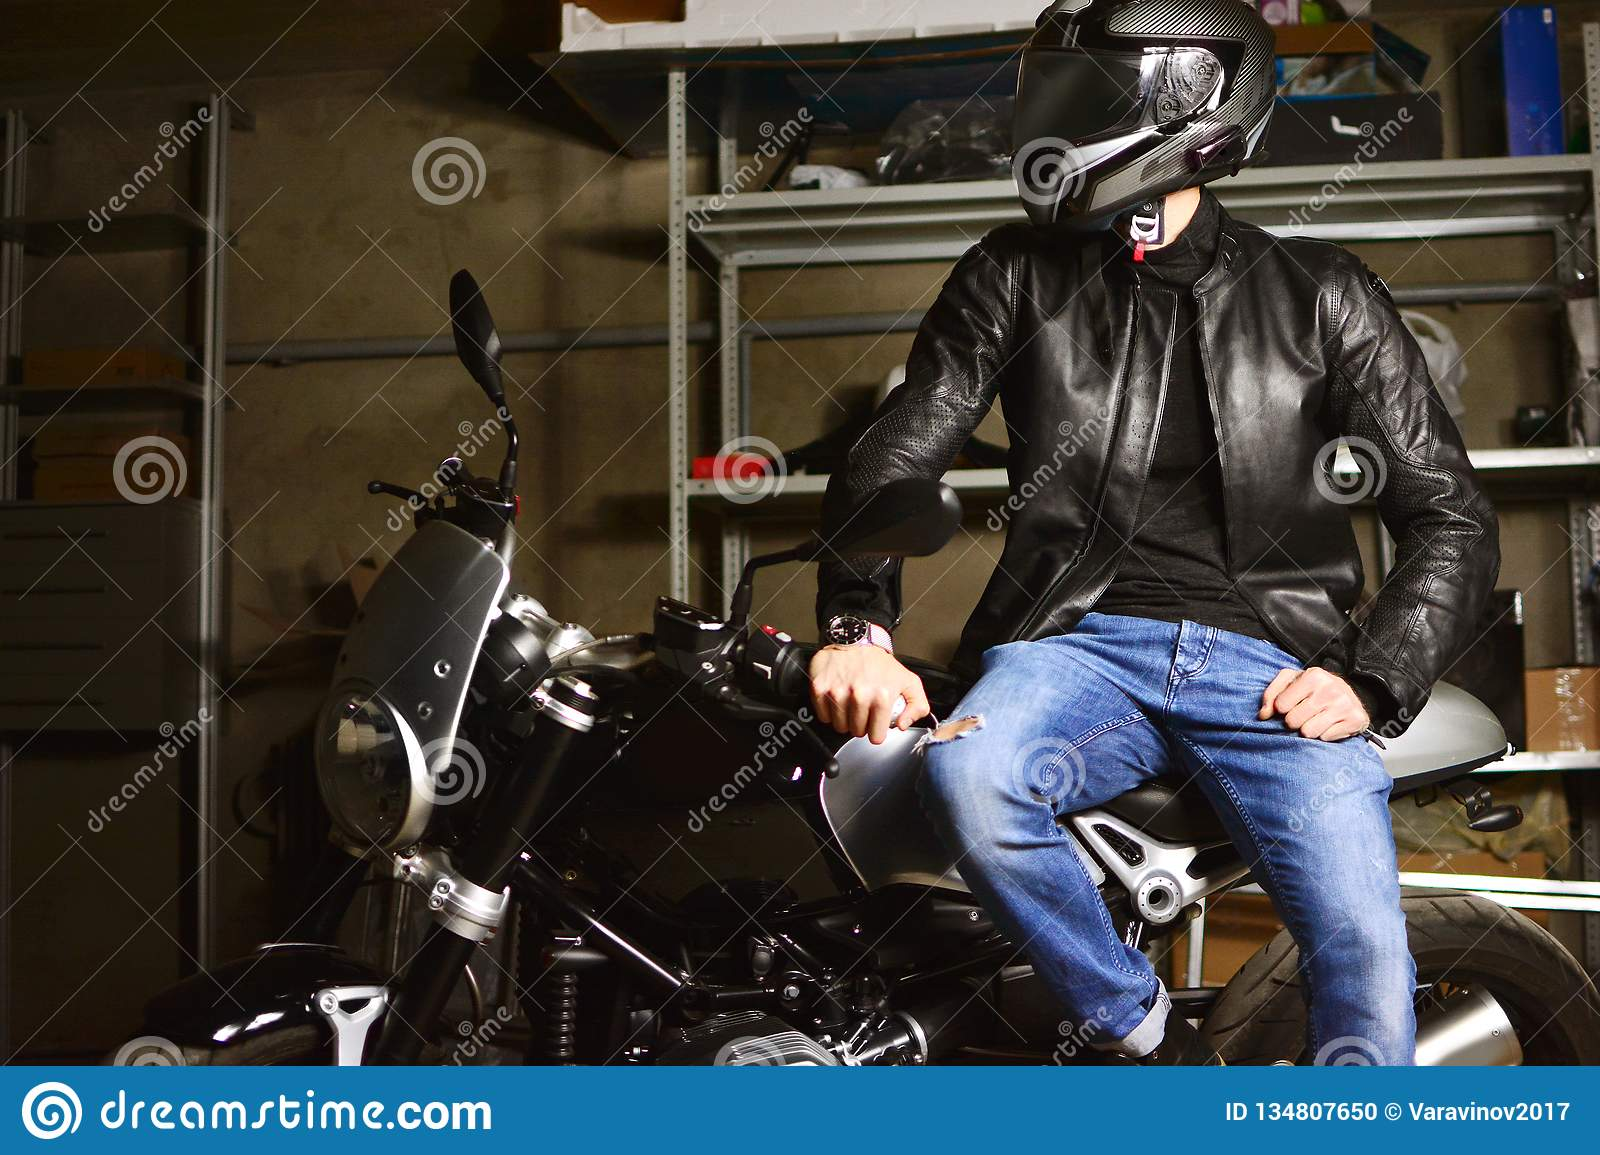helmet: (1012, 7, 1288, 222)
